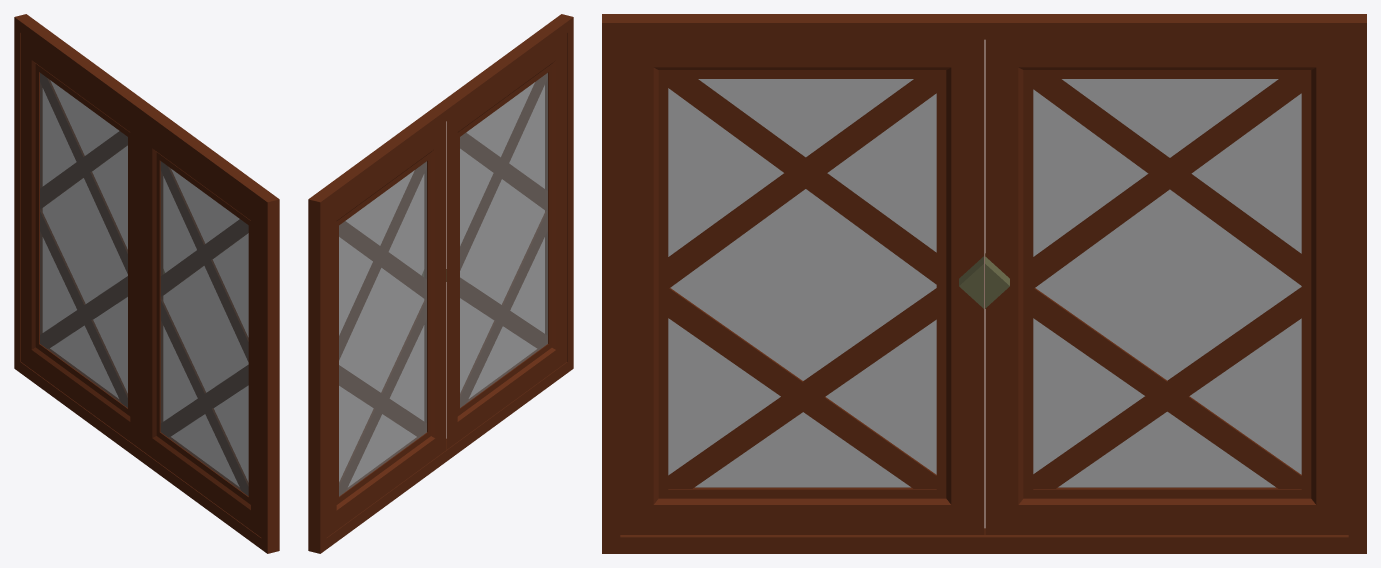
File: janela.glb
3 views of the same model, side by side, from view 1: azimuth 30°, elevation 25°; view 2: azimuth 150°, elevation 25°; view 3: azimuth 270°, elevation 25° (orthographic). The views are drawn at different scales.
Visible parts, largest first — view 1: Left Glass, Right Glass, Left Window, Left Window.001, Outer Window, tarr, tarr.001; view 2: Right Glass, Left Glass, Left Window, Left Window.001, Outer Window, tarr, tarr.001; view 3: Left Window, Left Window.001, Left Glass, Right Glass, Outer Window, tarr, tarr.001.
Boxes of the visible parts, x1,y1,x2,y2 form: Left Glass: (160, 161, 248, 496); Right Glass: (40, 73, 127, 407); Left Window: (141, 121, 261, 537); Left Window.001: (21, 33, 141, 449); Outer Window: (14, 14, 279, 553); tarr: (40, 131, 127, 407); tarr.001: (161, 219, 248, 495); Right Glass: (339, 161, 426, 496); Left Glass: (460, 73, 547, 407); Left Window: (446, 33, 566, 449); Left Window.001: (326, 121, 446, 537); Outer Window: (308, 14, 573, 553); tarr: (339, 162, 426, 437); tarr.001: (460, 74, 547, 348); Left Window: (620, 39, 984, 534); Left Window.001: (985, 39, 1348, 534); Left Glass: (668, 79, 936, 487); Right Glass: (1033, 79, 1301, 487); Outer Window: (602, 14, 1366, 553); tarr: (1033, 79, 1301, 488); tarr.001: (668, 79, 936, 488).
Size of the model in its own units: 0.3182 by 5.51 by 7.19.
